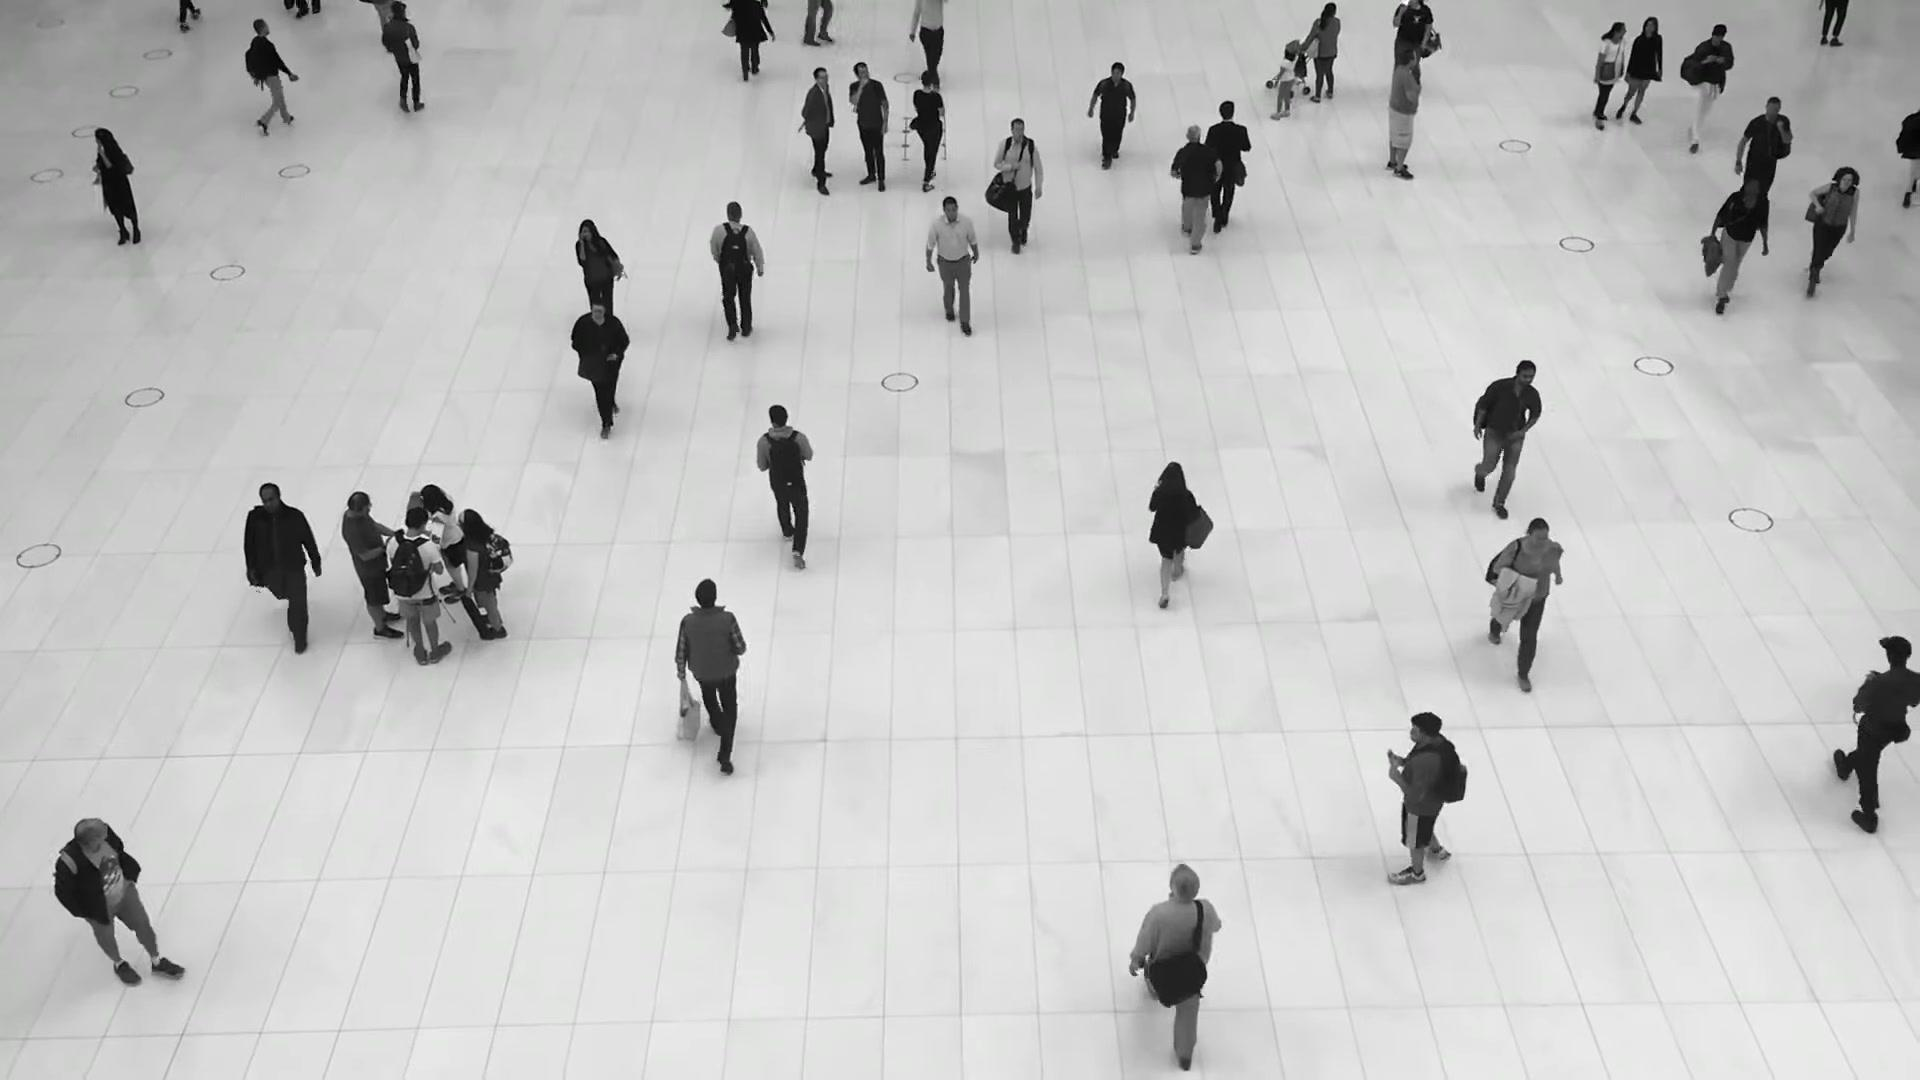person: (52, 815, 182, 986), (1129, 861, 1223, 1070), (1384, 711, 1469, 886), (1834, 631, 1915, 815), (675, 579, 748, 772), (1485, 516, 1564, 688), (243, 481, 320, 652), (1472, 358, 1542, 516), (385, 507, 452, 666), (753, 403, 815, 567), (1147, 461, 1211, 606), (342, 490, 402, 638), (569, 295, 630, 438), (1707, 176, 1769, 316), (925, 196, 982, 333), (1800, 166, 1860, 296), (709, 202, 764, 342), (1680, 20, 1734, 152), (458, 508, 510, 640), (994, 118, 1043, 254), (1203, 100, 1251, 235), (243, 18, 297, 137), (1169, 124, 1215, 254), (92, 127, 141, 245), (1734, 96, 1792, 195), (848, 61, 890, 193), (419, 484, 465, 604), (1616, 16, 1663, 130), (1088, 61, 1136, 169), (798, 67, 838, 195), (381, 2, 425, 115), (1385, 49, 1421, 180), (574, 219, 623, 310), (908, 71, 944, 192), (1592, 20, 1626, 130), (1303, 2, 1340, 102), (728, 0, 769, 82), (909, 0, 946, 80), (1270, 48, 1297, 119)
